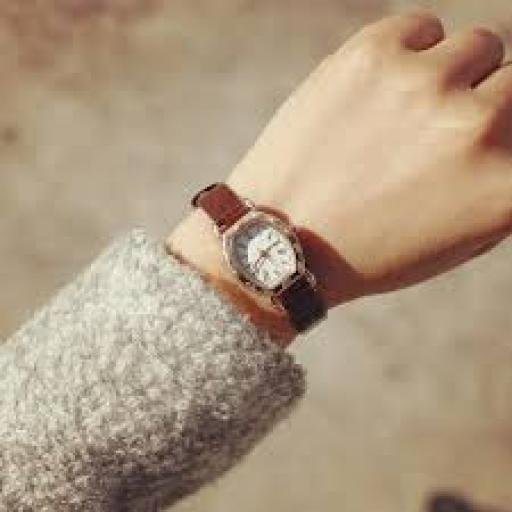KolSaati: (184, 178, 344, 337)
